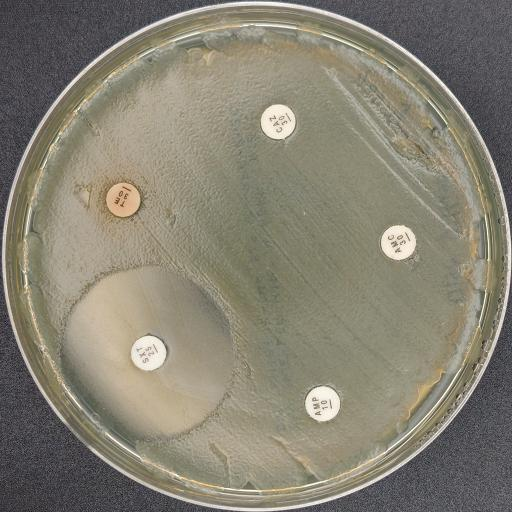disc: (303, 384, 341, 422), (129, 335, 167, 371), (260, 104, 296, 140), (105, 181, 141, 217), (380, 224, 416, 260)
